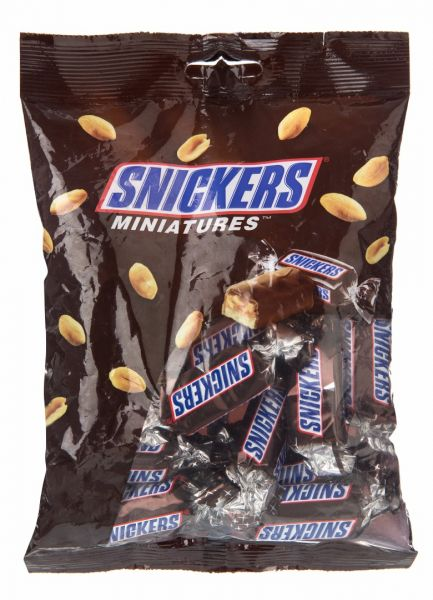snickers: (106, 162, 313, 210), (170, 348, 252, 416), (193, 313, 259, 362), (245, 384, 282, 458), (248, 450, 324, 483), (245, 384, 277, 458), (110, 513, 180, 542), (298, 345, 320, 432), (257, 519, 351, 539), (373, 317, 390, 399), (278, 482, 350, 501), (282, 251, 343, 273), (287, 254, 347, 273), (121, 476, 171, 498), (274, 465, 324, 483), (127, 465, 162, 481)
